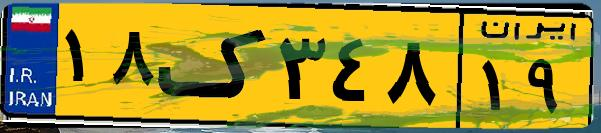1: (57, 26, 110, 100), (475, 38, 525, 113)
3: (270, 28, 330, 110)
4: (330, 28, 385, 110)
8: (385, 28, 445, 110), (110, 28, 158, 98)
9: (525, 38, 570, 115)
ک: (158, 12, 270, 120)
